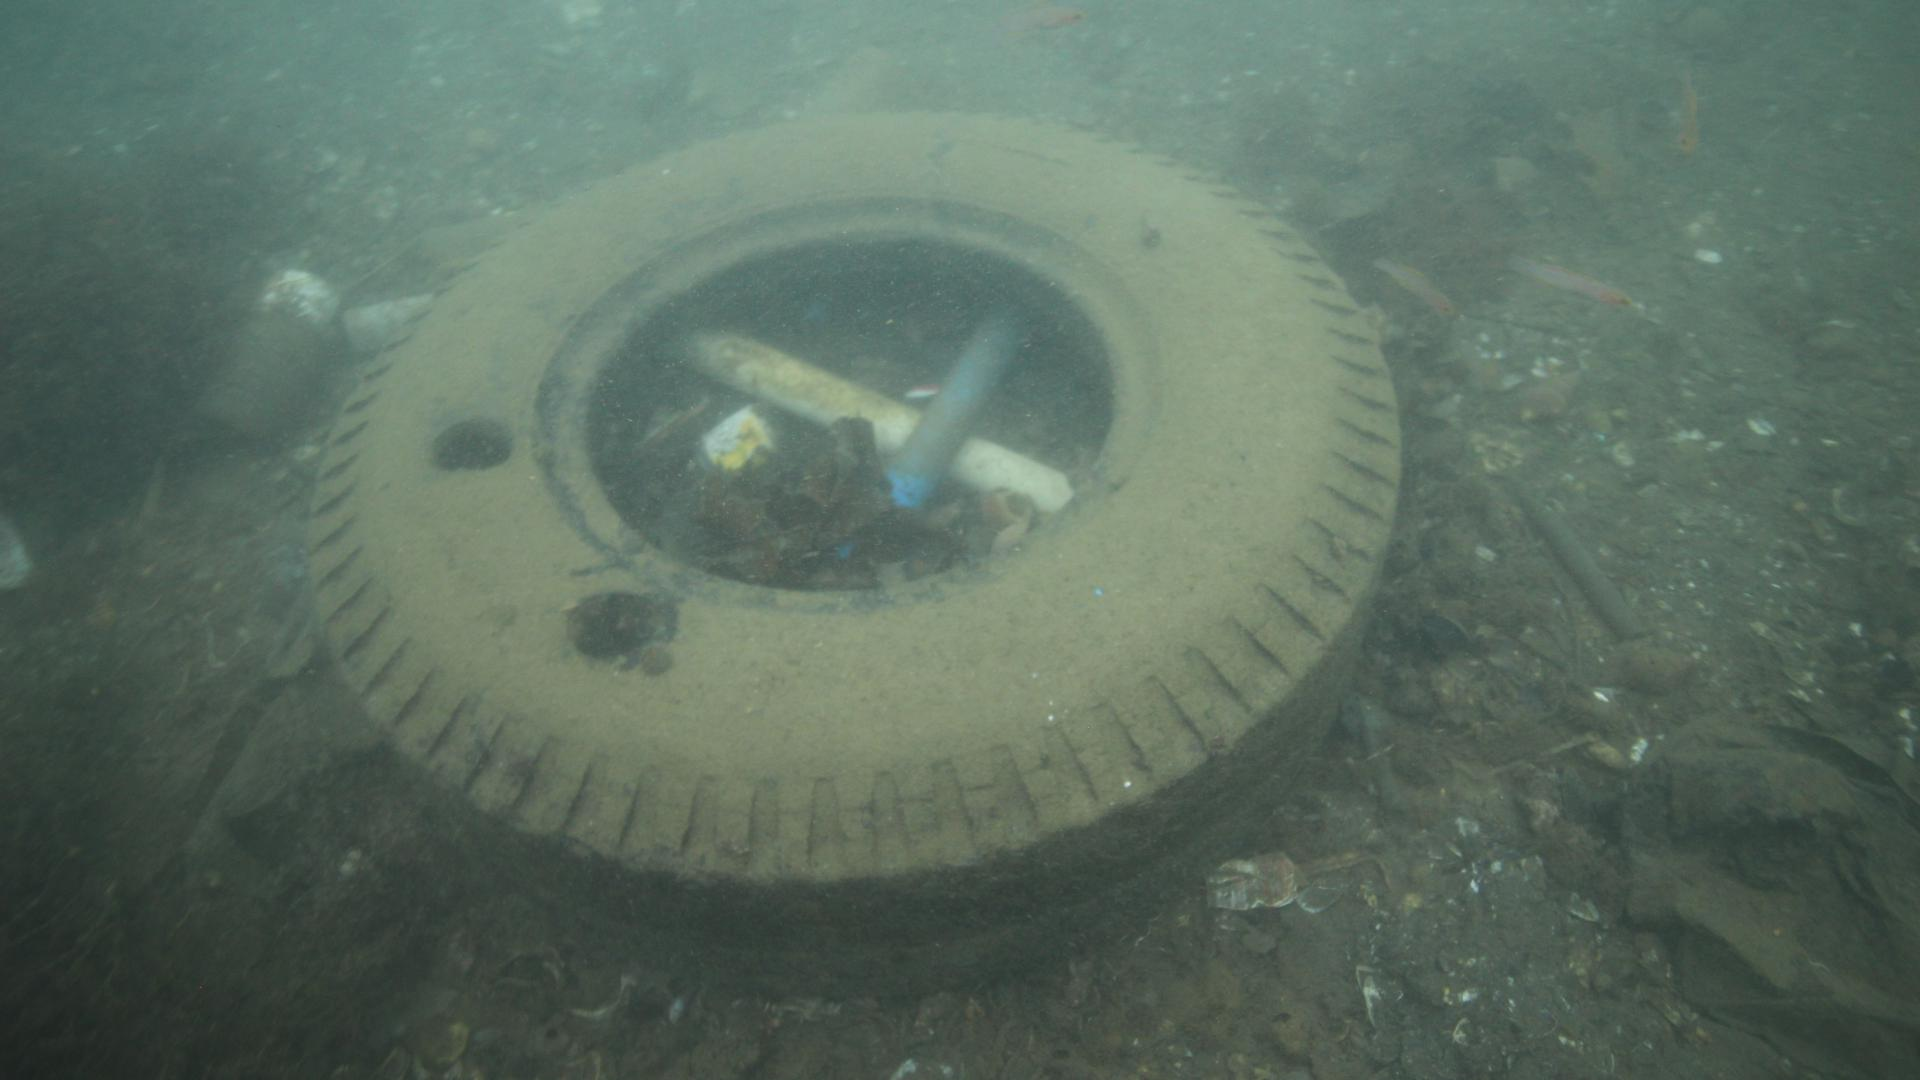tire: (305, 105, 1404, 1009)
